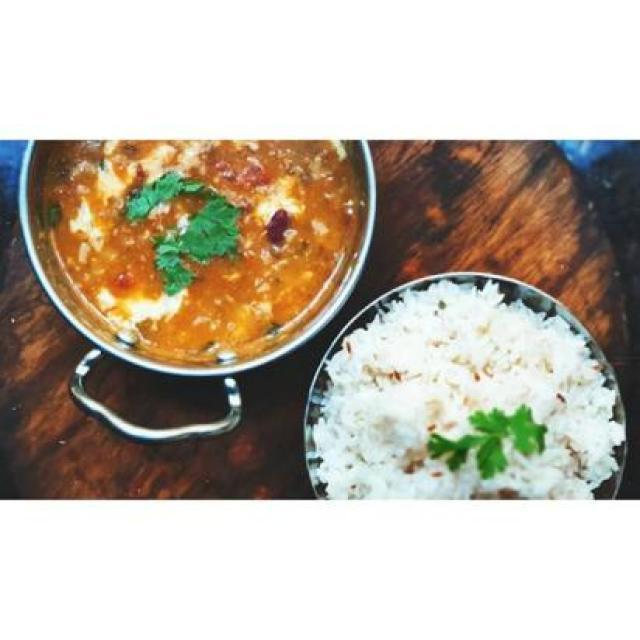Rice: (322, 289, 616, 502)
dalmakhani: (28, 134, 360, 364)
